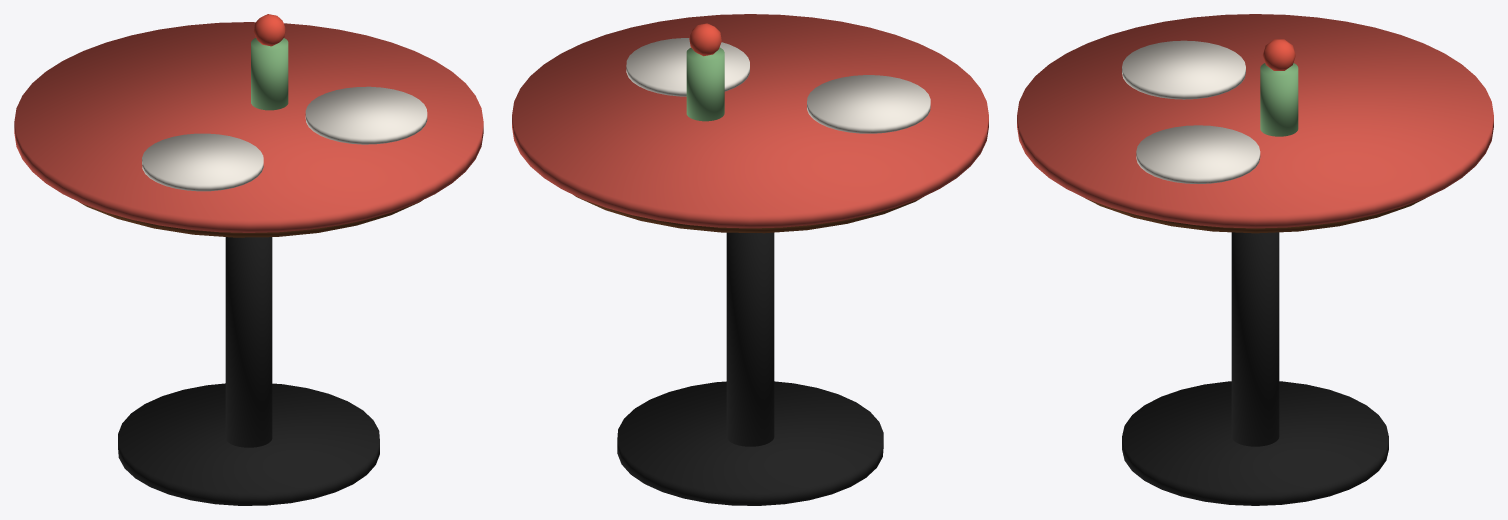
Rendered from tisch.glb.
3 renders of one model, left to right at view 1: azimuth 30°, elevation 25°; view 2: azimuth 150°, elevation 25°; view 3: azimuth 270°, elevation 25°, orthographic.
Parts seen in each view (by area): view 1: Cylinder, Cylinder.003, Cylinder.002, Cylinder.006, Cylinder.005, Cylinder.004, Cylinder.001, Icosphere; view 2: Cylinder, Cylinder.003, Cylinder.002, Cylinder.005, Cylinder.006, Cylinder.004, Cylinder.001, Icosphere; view 3: Cylinder, Cylinder.003, Cylinder.002, Cylinder.006, Cylinder.005, Cylinder.004, Cylinder.001, Icosphere.
Boxes of the visible parts, x1,y1,x2,y2 form: Cylinder: (14,22,483,232); Cylinder.003: (118,383,379,505); Cylinder.002: (225,237,272,447); Cylinder.006: (305,86,427,144); Cylinder.005: (142,133,263,191); Cylinder.004: (251,38,288,110); Cylinder.001: (79,200,422,237); Icosphere: (253,14,285,46); Cylinder: (512,14,988,228); Cylinder.003: (617,381,883,505); Cylinder.002: (726,232,774,446); Cylinder.005: (807,75,930,133); Cylinder.006: (626,38,749,96); Cylinder.004: (686,47,724,121); Cylinder.001: (574,195,922,233); Icosphere: (689,23,721,56); Cylinder: (1017,14,1493,228); Cylinder.003: (1122,381,1388,505); Cylinder.002: (1231,232,1279,446); Cylinder.006: (1136,125,1260,183); Cylinder.005: (1122,40,1245,99); Cylinder.004: (1260,63,1298,136); Cylinder.001: (1081,196,1429,233); Icosphere: (1262,39,1295,70).
Bounding box in the file's own units: 1 × 0.985 × 1.
